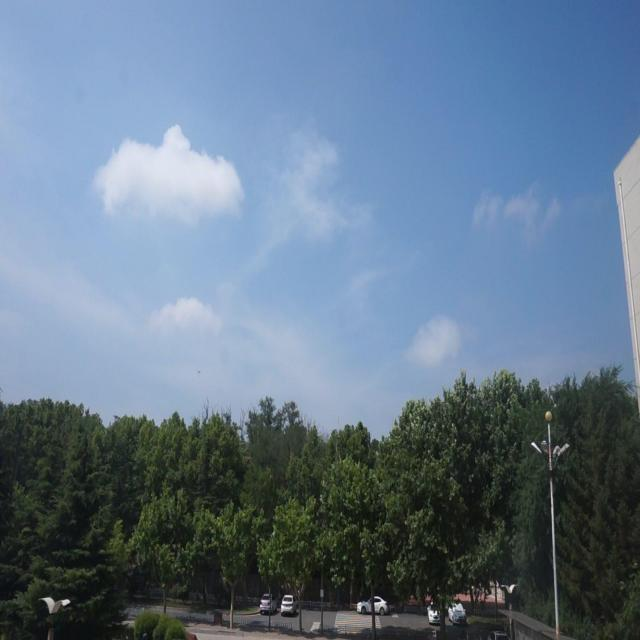UAV: (197, 370, 200, 374)
